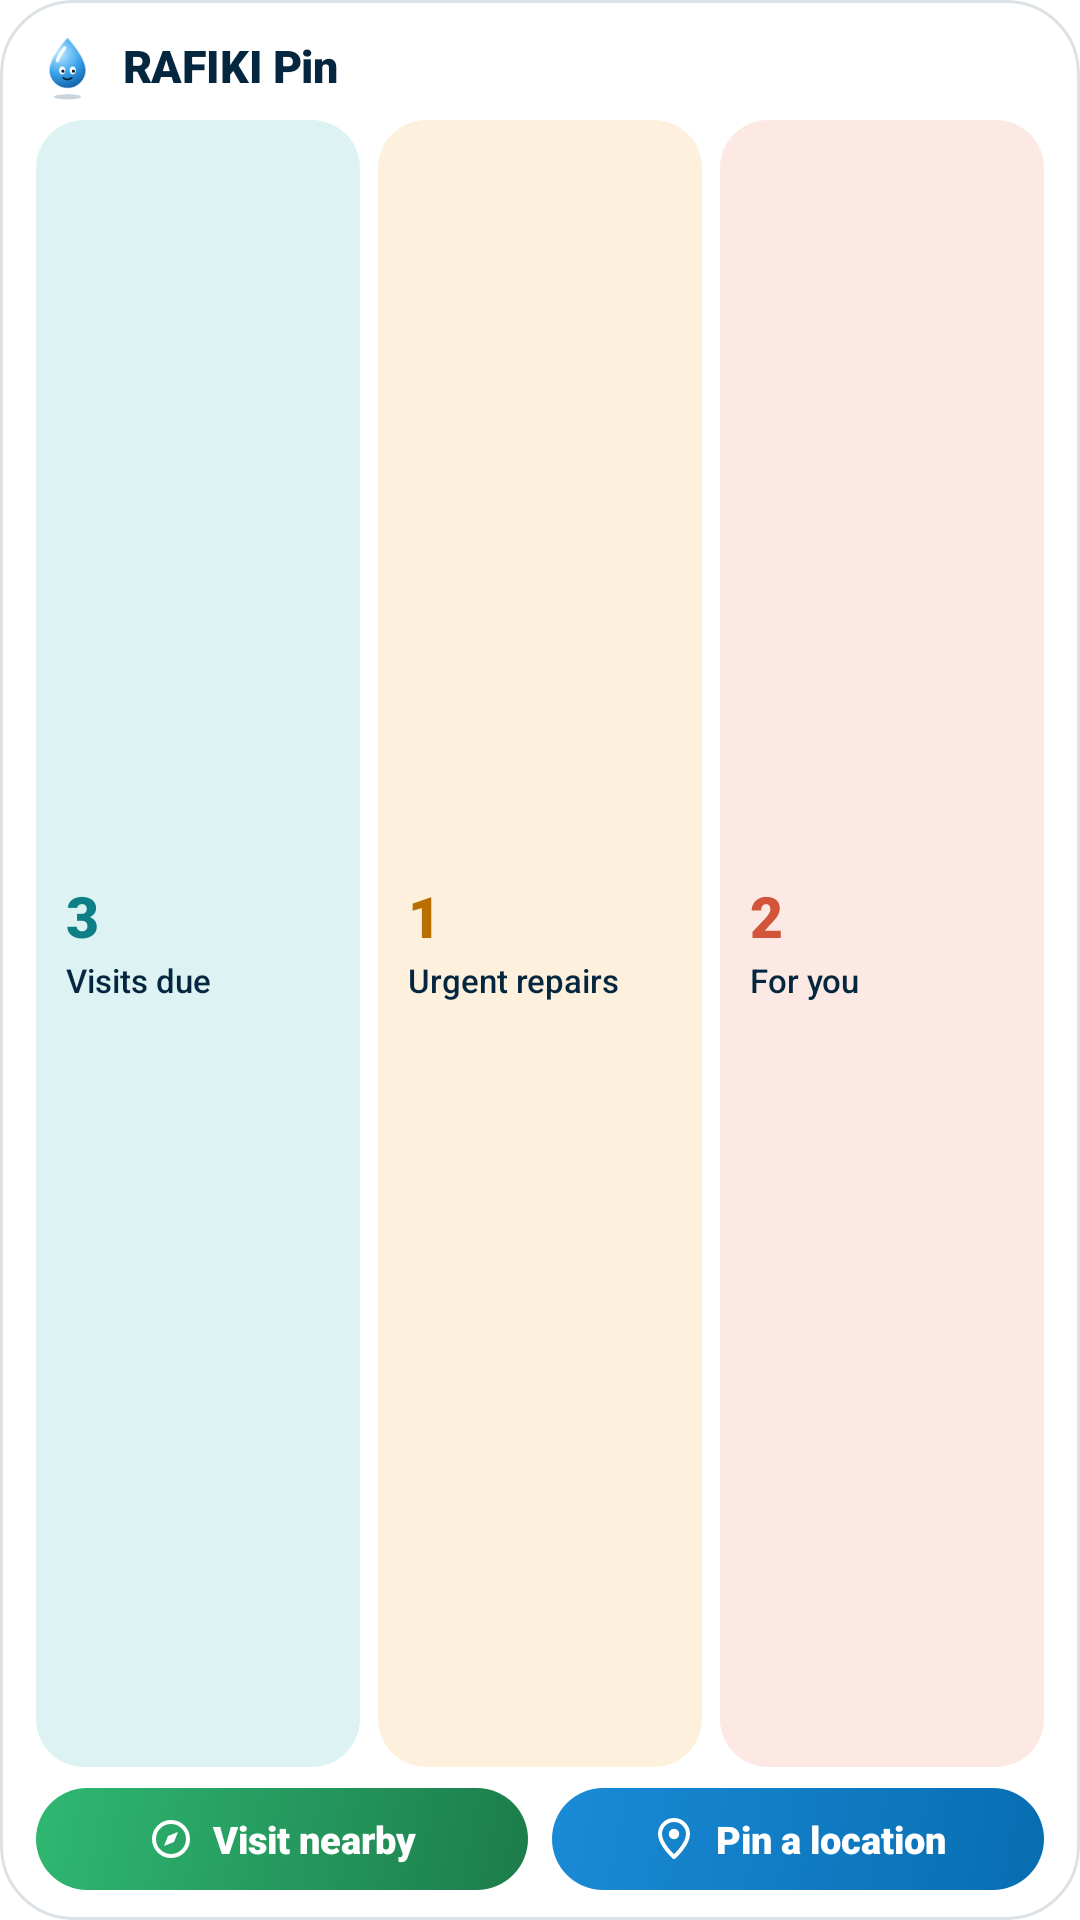

Screen size 1080 × 1920. Icon name, then its box in pixels as (x1, y1, x2, y2):
drop: (49, 38, 86, 100)
